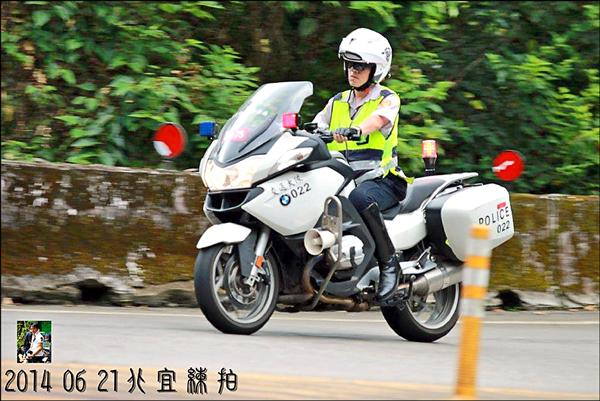helmet: (328, 30, 398, 81)
